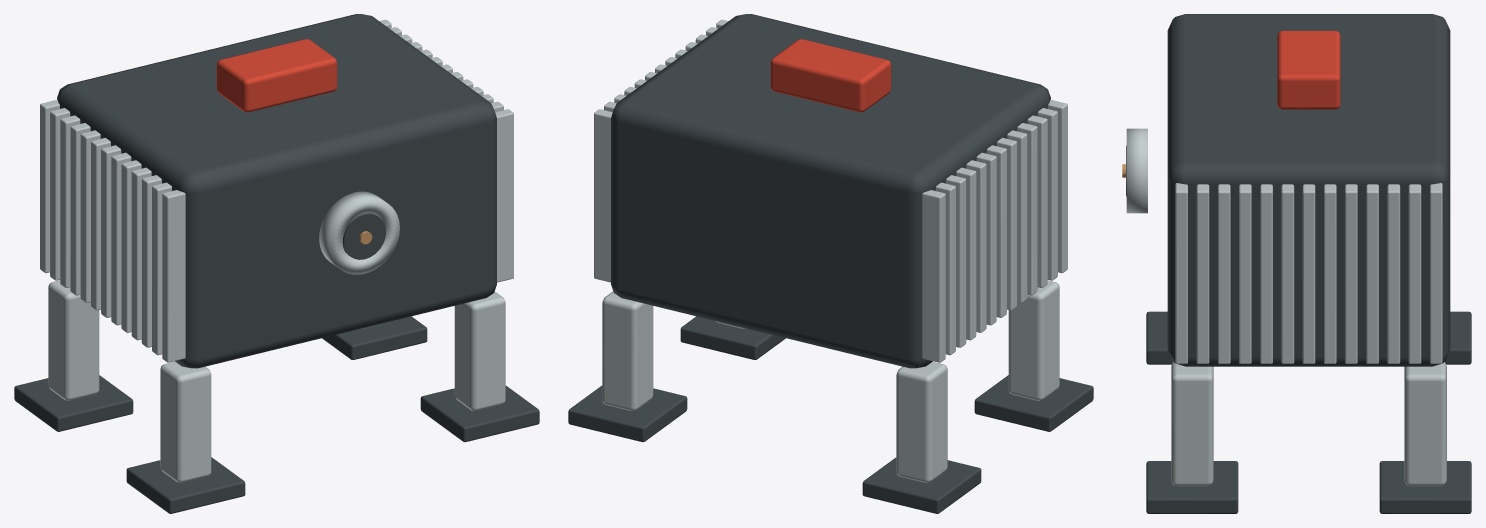
The model's file is broadcast-tower-and-relay-station-broadcast-tower-and--5758b28f__30262.glb.
The picture shows the model from 3 angles, left to right: view 1: azimuth 30°, elevation 25°; view 2: azimuth 150°, elevation 25°; view 3: azimuth 270°, elevation 25°; orthographic projection. The views are drawn at different scales.
Visible parts, largest first — view 1: broadcast-tower-and-relay-station-dummy-load; view 2: broadcast-tower-and-relay-station-dummy-load; view 3: broadcast-tower-and-relay-station-dummy-load.
Part boxes in pixels (x1,y1,x2,y2): broadcast-tower-and-relay-station-dummy-load: (14, 14, 539, 513); broadcast-tower-and-relay-station-dummy-load: (568, 14, 1093, 513); broadcast-tower-and-relay-station-dummy-load: (1122, 14, 1471, 513).
Bounding box in the file's own units: 0.63 × 0.575 × 0.494.
